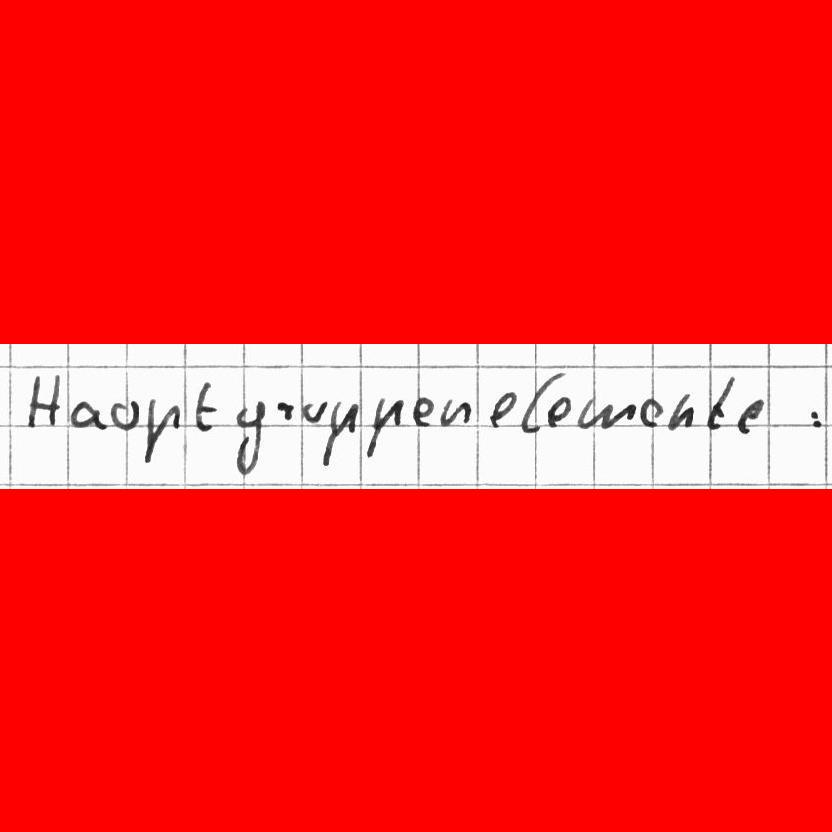Char: (229, 400, 267, 476), (142, 397, 183, 465), (321, 400, 359, 469), (24, 371, 65, 432), (366, 394, 404, 459), (518, 375, 558, 435), (575, 398, 637, 429), (703, 376, 734, 431), (193, 379, 217, 433), (485, 390, 516, 430), (666, 392, 696, 431), (439, 396, 472, 428), (71, 399, 105, 430), (736, 397, 762, 436), (109, 398, 139, 430), (545, 395, 572, 429), (410, 395, 435, 427), (639, 395, 663, 428), (301, 400, 328, 425), (276, 398, 296, 422), (808, 409, 826, 429)
